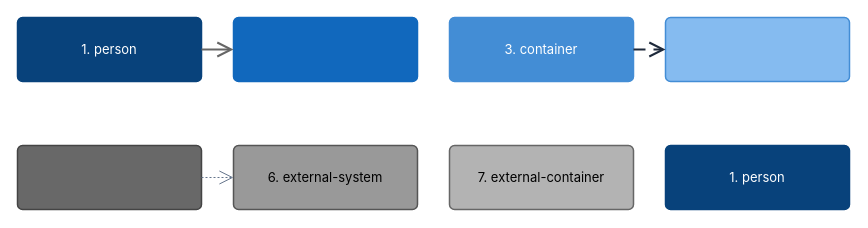
This 868x228 diagram has some shape labels left out. Each missing label, with the box of its shape:
2. software-system: (232, 16, 418, 82)
4. component: (664, 16, 850, 82)
5. external-person: (16, 144, 202, 210)
